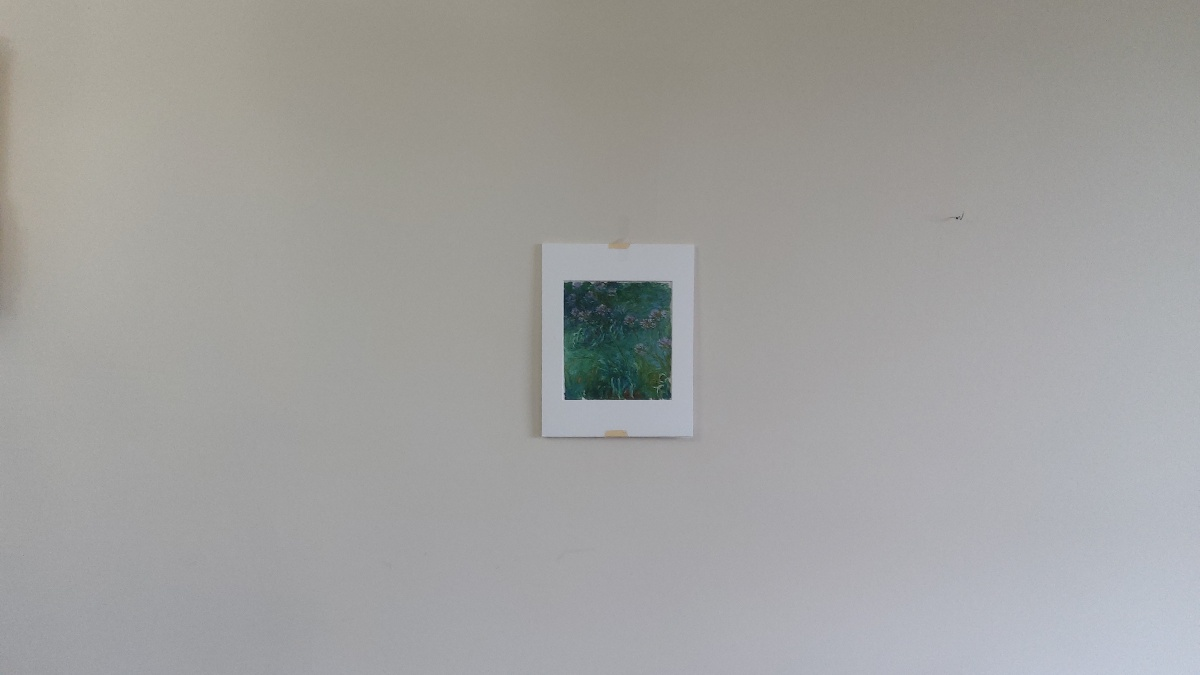painting: (561, 274, 678, 406)
